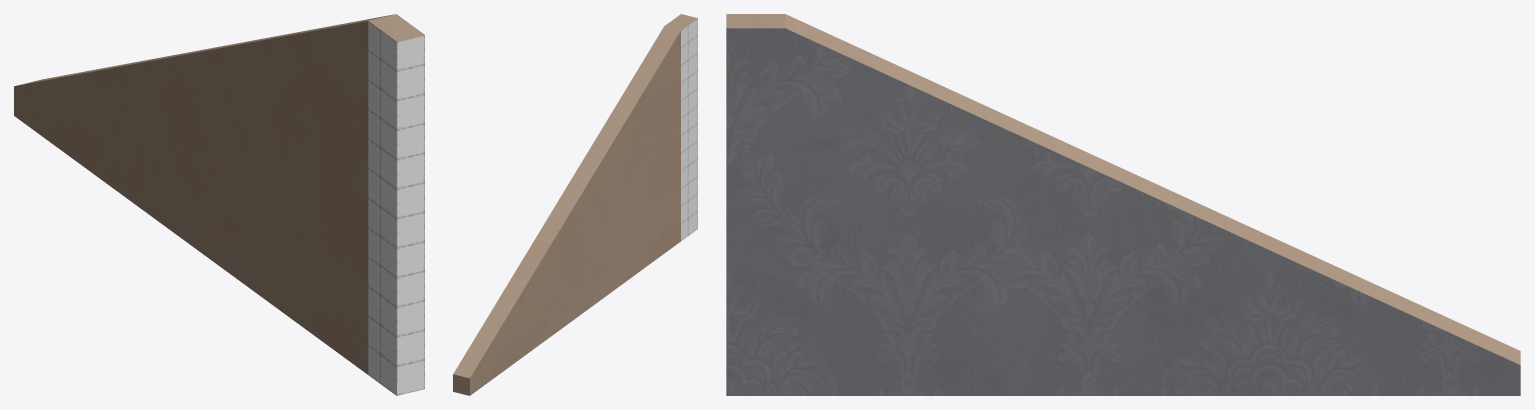
3 renders of one model, left to right at view 1: azimuth 30°, elevation 25°; view 2: azimuth 150°, elevation 25°; view 3: azimuth 270°, elevation 25°, orthographic. The views are drawn at different scales.
Visible parts, largest first — view 1: Cube; view 2: Cube; view 3: Cube.
Part boxes in pixels (bbox=[...]): Cube: bbox=[14, 14, 424, 395]; Cube: bbox=[453, 14, 697, 395]; Cube: bbox=[726, 14, 1520, 395].
Bounding box in the file's own units: 1 × 12 × 23.5.
